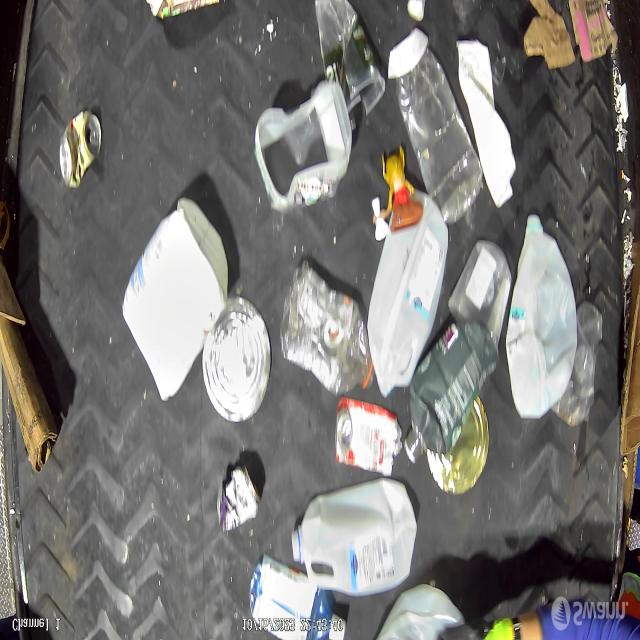can: (202, 298, 272, 424), (431, 395, 490, 494), (57, 111, 101, 190), (217, 463, 260, 534)
milk_jug: (368, 190, 449, 394), (508, 212, 578, 424), (292, 479, 417, 592), (369, 583, 468, 640)
plastic_bottle: (395, 46, 484, 225), (282, 266, 372, 395)
